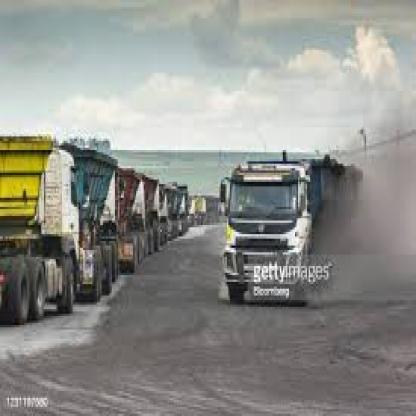dump_truck: (203, 118, 340, 334), (3, 118, 89, 334), (79, 121, 133, 314)
